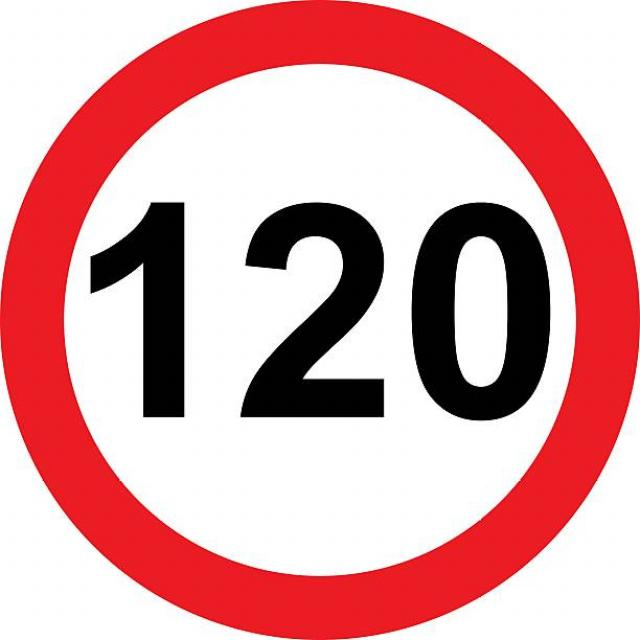speed_limit_120: (2, 5, 640, 640)
